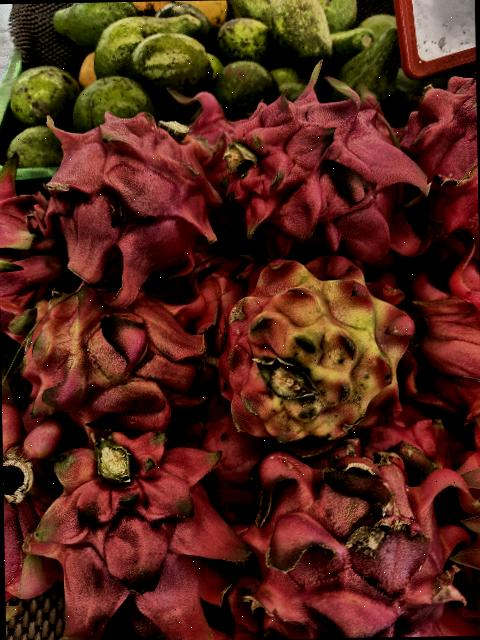buah-naga-belum-matang: (4, 284, 216, 451), (224, 257, 415, 442)
buah-naga-matang: (253, 442, 479, 640), (27, 441, 248, 637), (214, 87, 420, 266), (33, 102, 226, 292), (396, 80, 479, 274)
